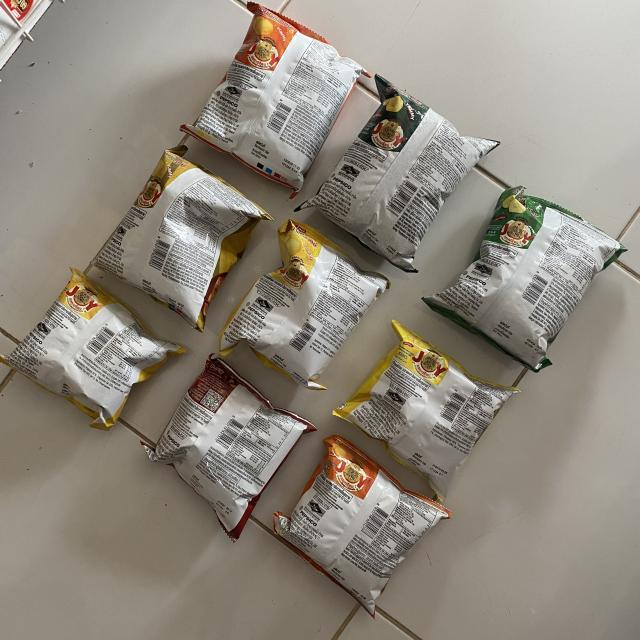plastik: (298, 75, 499, 271), (424, 186, 625, 370), (181, 1, 368, 194), (92, 146, 271, 331), (334, 321, 519, 500), (274, 435, 450, 615), (145, 358, 315, 540), (0, 268, 184, 430), (220, 220, 390, 389)
